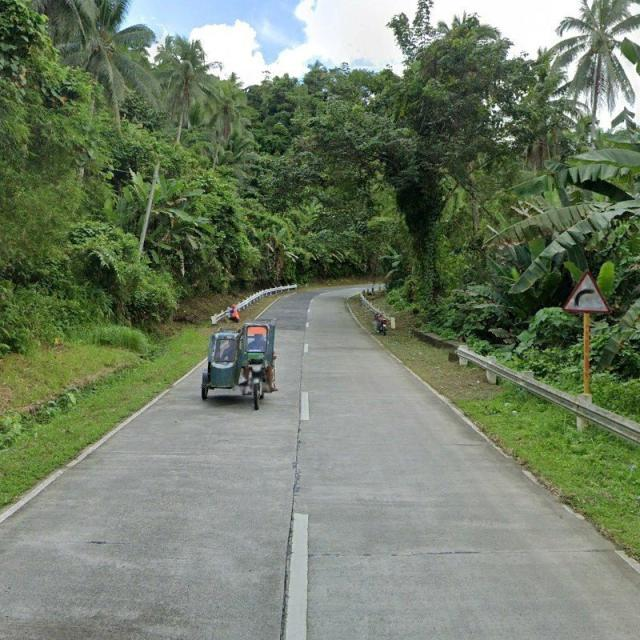warn_right_curve: (561, 269, 612, 313)
